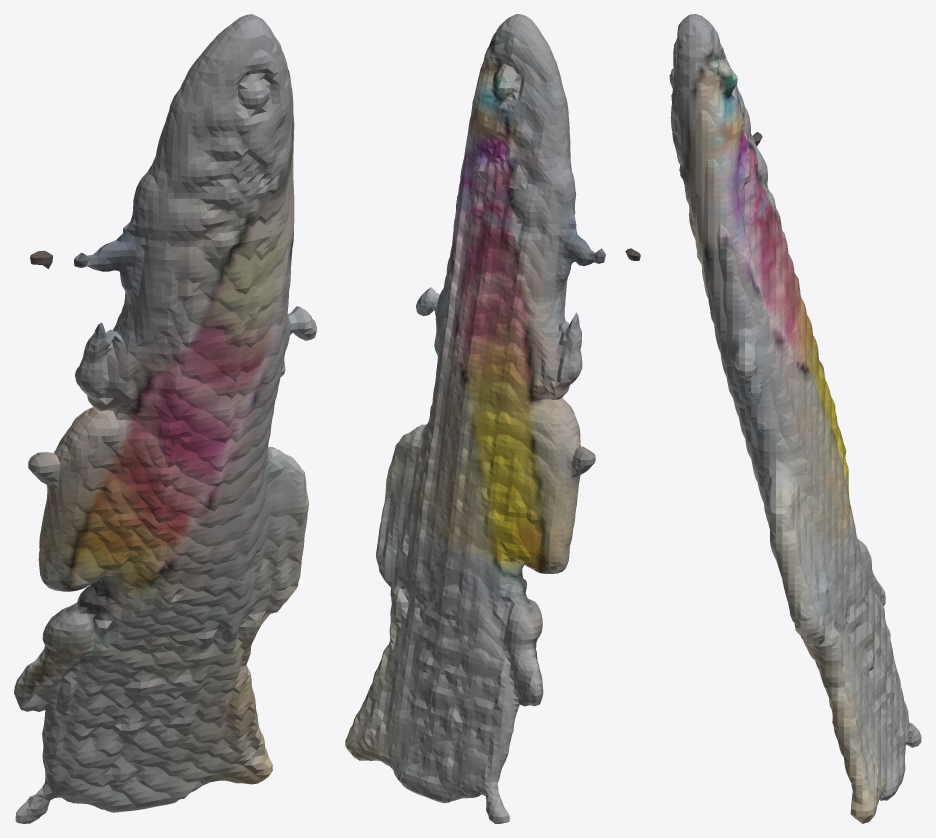
Rendered from aphyosemion-striatum.glb.
3 renders of one model, left to right at view 1: azimuth 30°, elevation 25°; view 2: azimuth 150°, elevation 25°; view 3: azimuth 270°, elevation 25°, orthographic. The views are drawn at different scales.
Visible parts, largest first — view 1: world; view 2: world; view 3: world.
Part boxes in pixels (<box>): world: <box>14,14,316,823</box>; world: <box>345,14,640,823</box>; world: <box>669,14,921,823</box>.
Bounding box in the file's own units: 0.3374 × 0.9426 × 0.2783.
